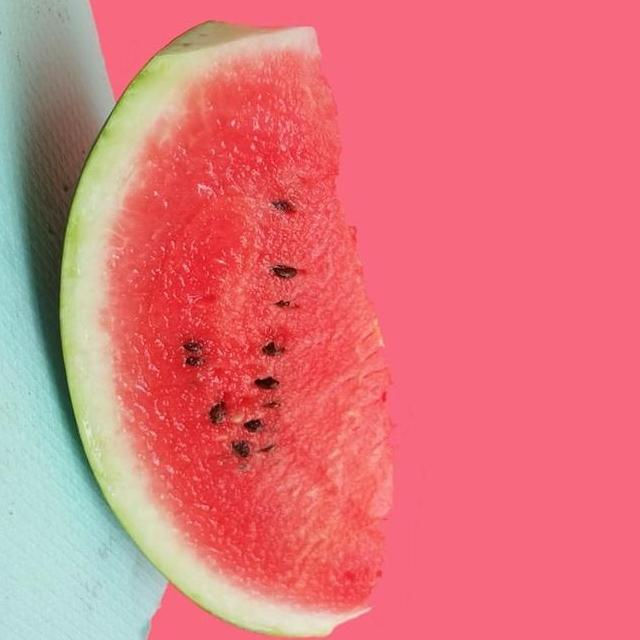watermelon: (61, 25, 437, 640)
